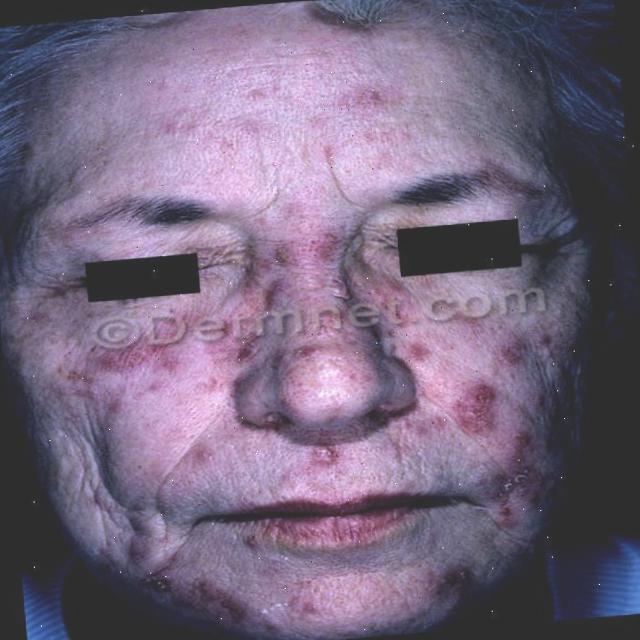skinredness: (42, 290, 294, 578)
